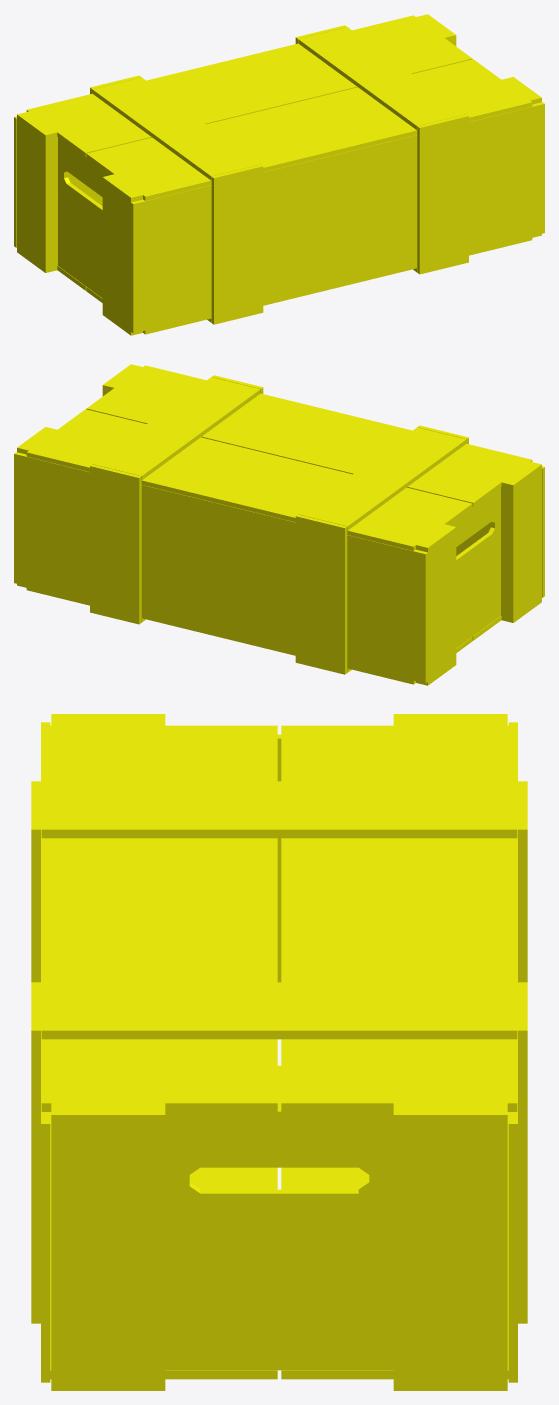
The picture shows the model from 3 angles, top to bottom: view 1: azimuth 30°, elevation 25°; view 2: azimuth 150°, elevation 25°; view 3: azimuth 270°, elevation 25°; orthographic projection. The views are drawn at different scales.
Visible parts, largest first — view 1: Crate-02_case, Crate-02_cover; view 2: Crate-02_case, Crate-02_cover; view 3: Crate-02_cover, Crate-02_case.
Boxes of the visible parts, x1=… form: Crate-02_case: x1=14, y1=14, x2=544, y2=335; Crate-02_cover: x1=26, y1=15, x2=532, y2=200; Crate-02_case: x1=14, y1=364, x2=544, y2=685; Crate-02_cover: x1=26, y1=365, x2=532, y2=550; Crate-02_cover: x1=41, y1=725, x2=517, y2=1111; Crate-02_case: x1=31, y1=714, x2=527, y2=1390.
Bounding box in the file's own units: 0.5 × 0.17 × 0.261.
Materials: 1 (1 with a texture image).
